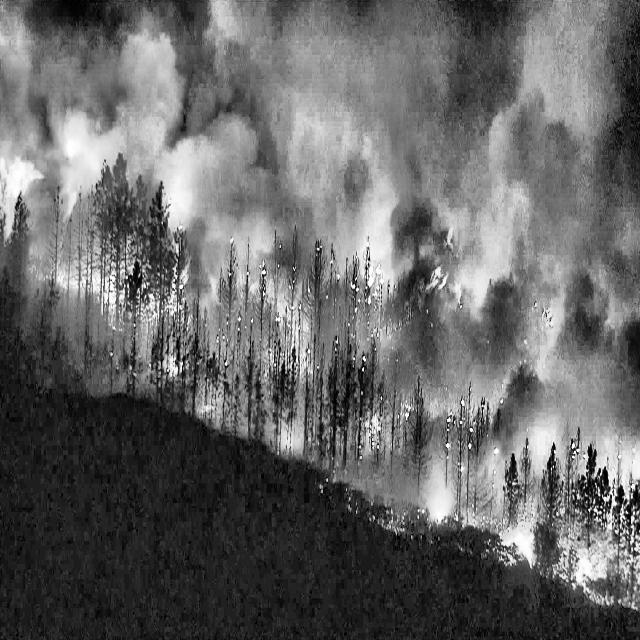fire: (7, 20, 640, 617)
